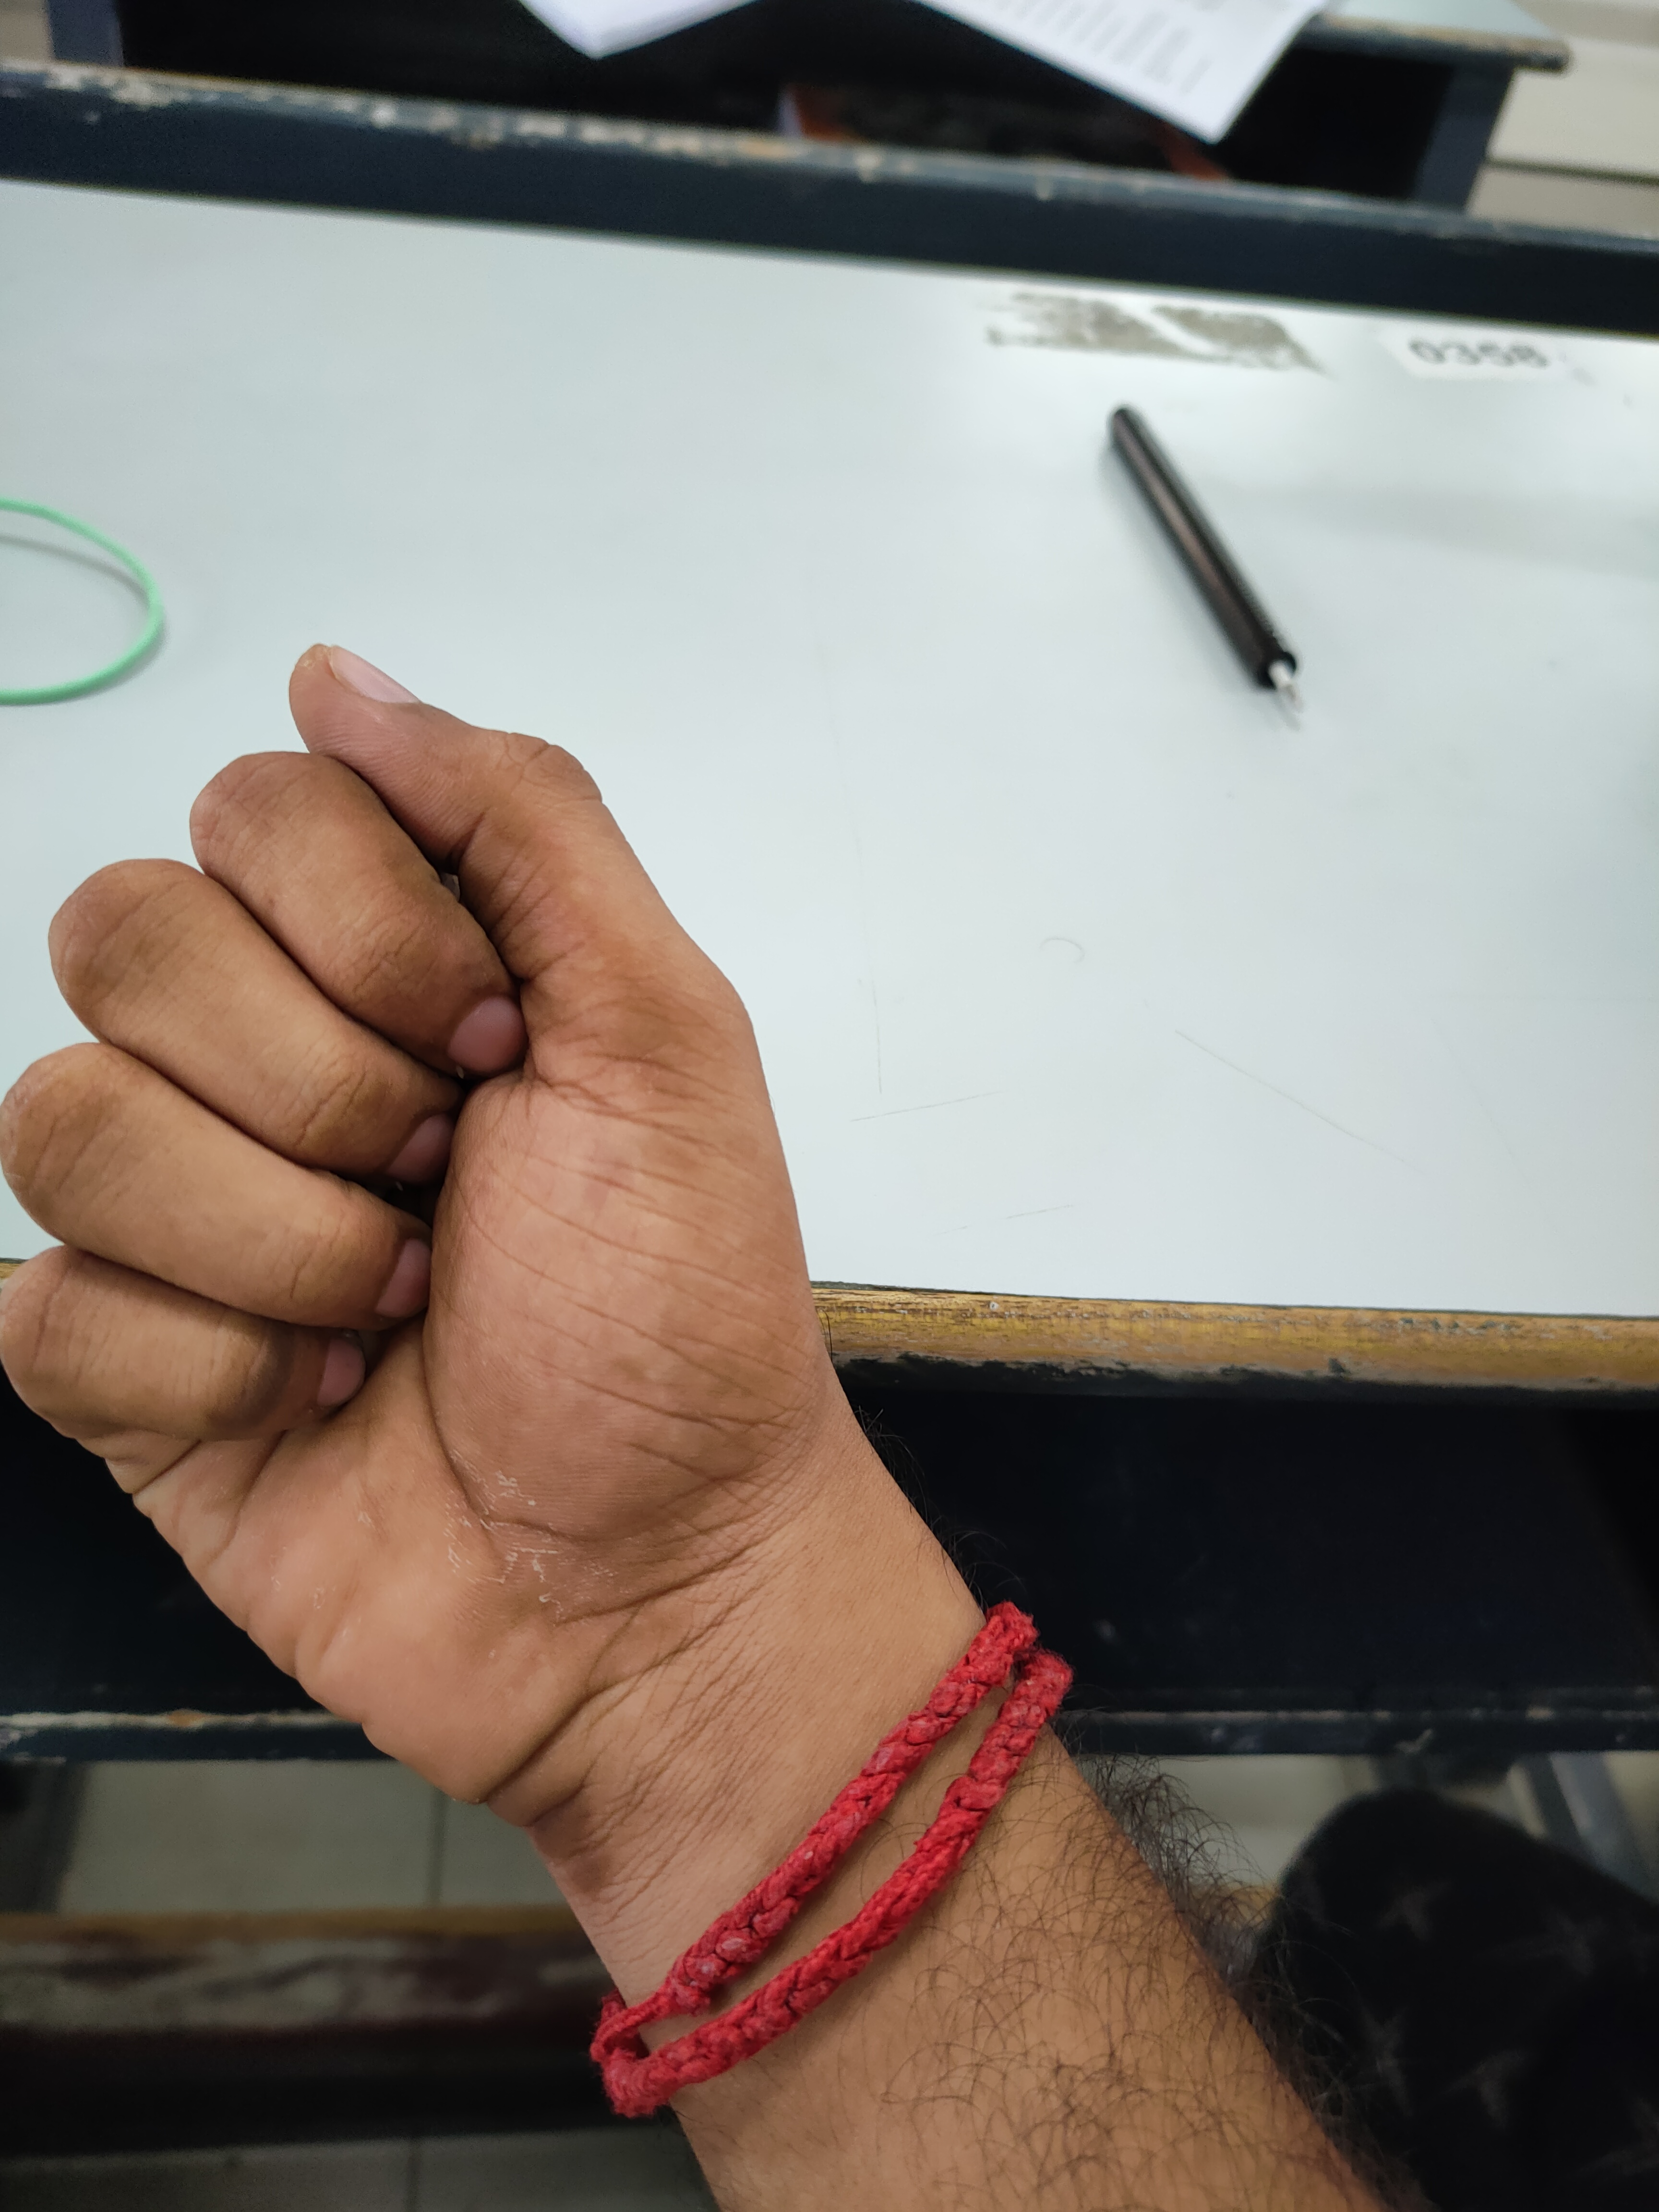A: (5, 644, 899, 1797)
